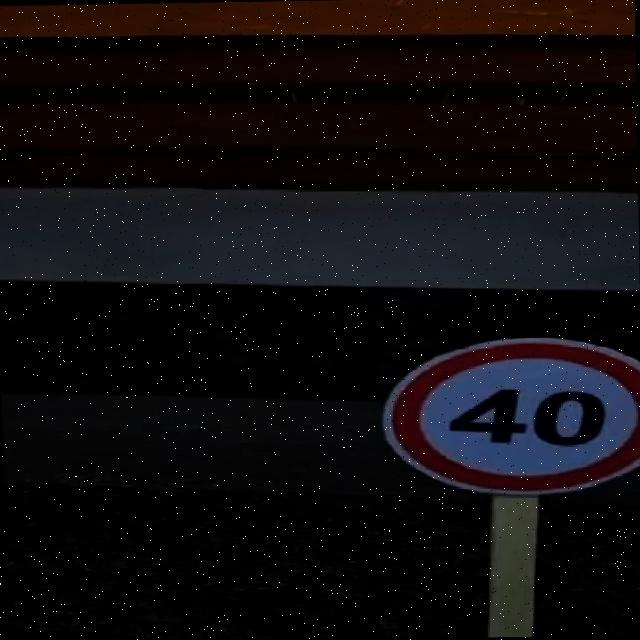Speed40: (363, 325, 640, 500)
